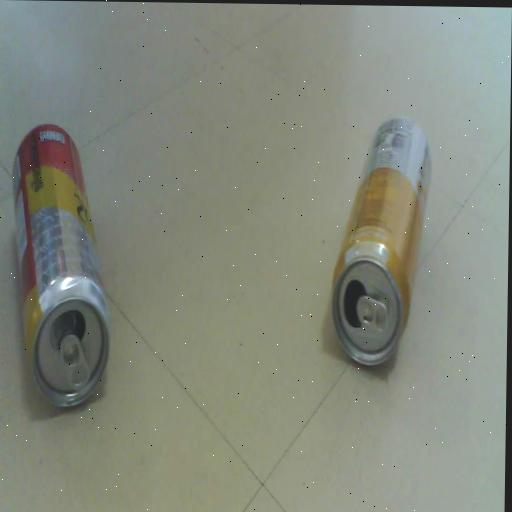canned: (4, 111, 125, 428), (319, 100, 448, 386)
